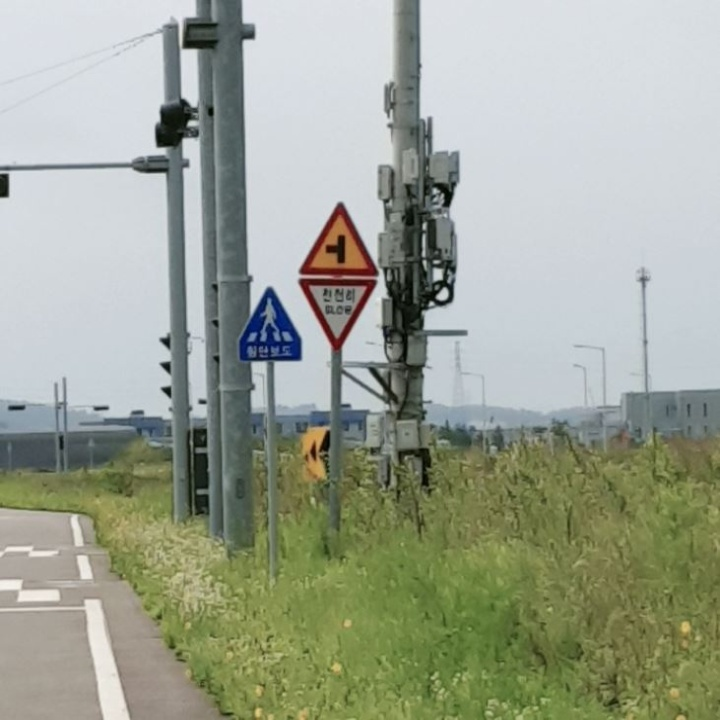cross: (252, 292, 287, 340)
